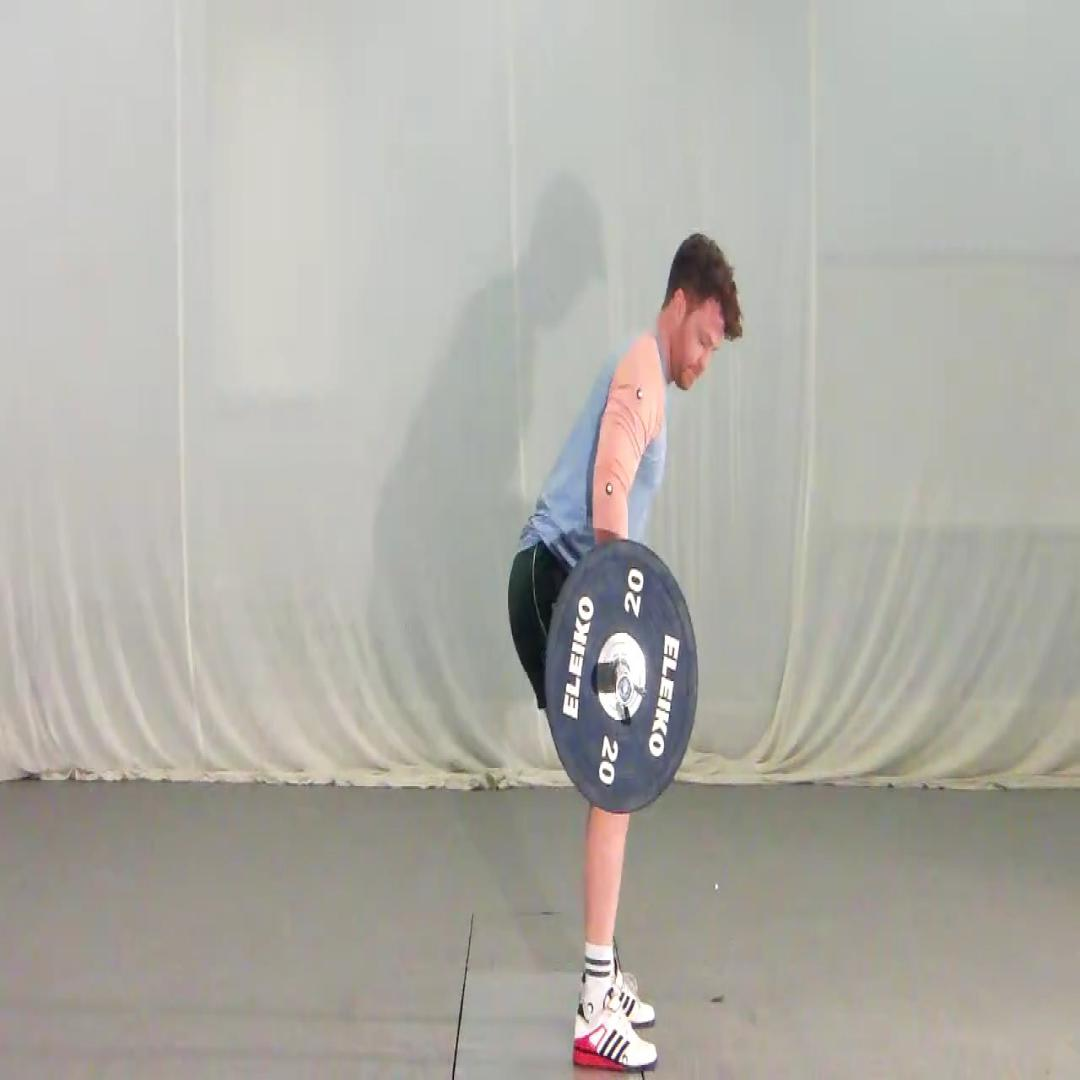Bar: (614, 670, 636, 706)
Barbell: (546, 542, 698, 811)
